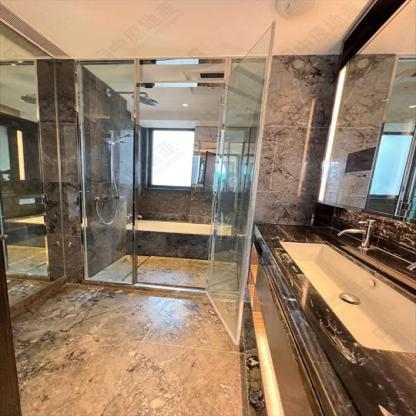Bathtub: (135, 220, 213, 258)
Faucet: (348, 215, 371, 245)
Toilet Sink: (279, 240, 415, 354)
Water Cubicle: (83, 20, 276, 343)
